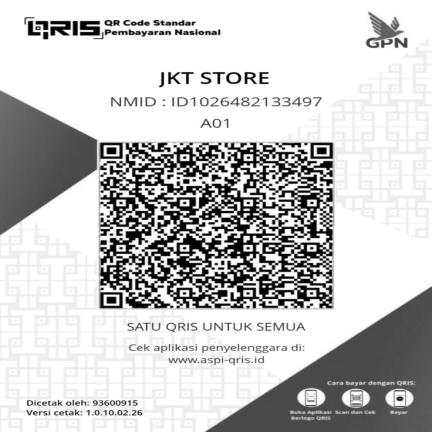Cara Pakai QRIS: (286, 377, 424, 423)
Cek Aplikasi Penyelenggara: (122, 342, 315, 369)
Dicetak Oleh: (20, 396, 146, 408)
Logo GPN: (347, 7, 422, 53)
Logo dan deskripsi QRIS: (18, 11, 229, 44)
Nama Merchant: (154, 66, 279, 90)
National Merchant ID: (105, 94, 329, 110)
QR Code: (92, 137, 340, 314)
Slogan: (123, 319, 312, 335)
Terminal ID: (195, 116, 239, 132)
Versi Cetak: (22, 409, 146, 417)
